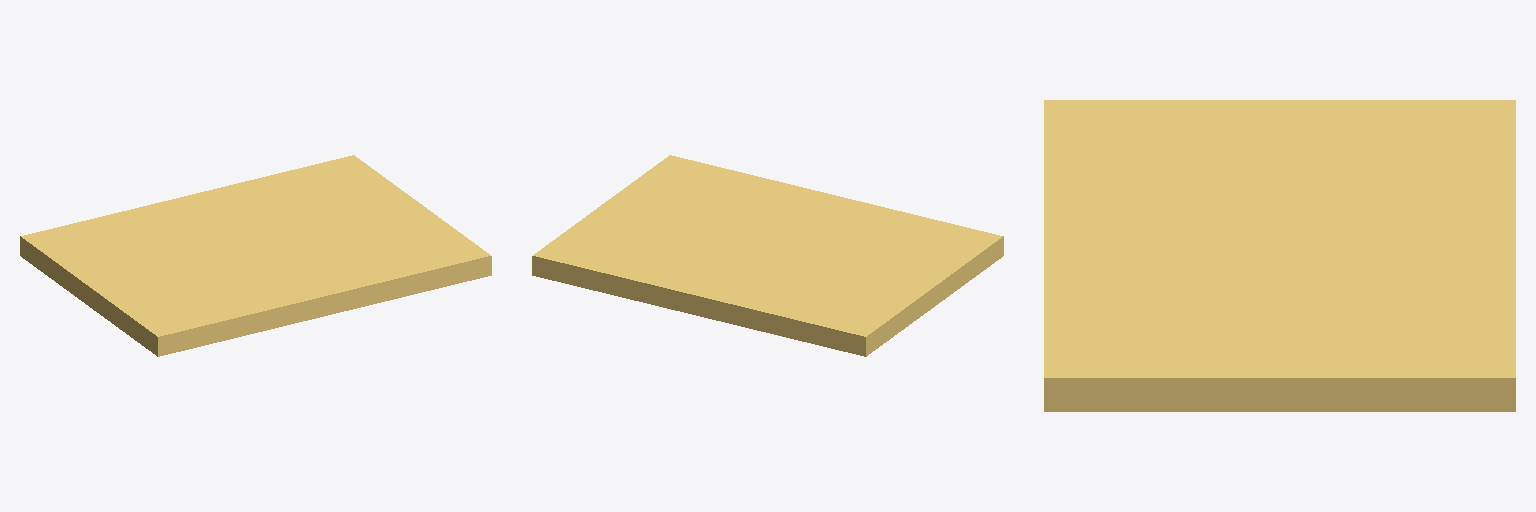
robot.urdf — table:
<?xml version="1.0" ?>
<!-- =================================================================================== -->
<!-- |    This document was autogenerated by xacro from cube.xacro                     | -->
<!-- |    EDITING THIS FILE BY HAND IS NOT RECOMMENDED                                 | -->
<!-- =================================================================================== -->
<robot name="table" xmlns:xacro="http://www.ros.org/wiki/xacro">
  <!-- Import Rviz colors -->
  <material name="red">
    <color rgba="0.8 0.0 0.0 1.0"/>
  </material>
  <material name="Grey">
    <color rgba="0.6 0.6 0.6 1.0"/>
  </material>
  <material name="Black">
    <color rgba="0.0 0.0 0.0 1"/>
  </material>
  <material name="Blue">
    <color rgba="0.0 0.0 1.0 1"/>
  </material>
  <material name="Wood">
    <color rgba="1 0.88 0.56 1"/>
  </material>
  <link name="cube_link">
    <visual>
      <origin rpy="0 0 0" xyz="0 0 0"/>
      <geometry>
        <box size="0.7 0.5 0.04"/>
      </geometry>
      <material name="Wood">
        <color rgba="1 0.88 0.56 1"/>
      </material>
    </visual>
    <inertial>
      <origin rpy="0 0 0" xyz="0 0 0"/>
      <mass value="1"/>
      <inertia ixx="0.0616666666667" ixy="0.0" ixz="0.0" iyy="0.0209666666667" iyz="0.0" izz="0.0409666666667"/>
    </inertial>
    <collision>
      <origin rpy="0 0 0" xyz="0 0 0"/>
      <geometry>
        <box size="0.7 0.5 0.04"/>
      </geometry>
    </collision>
  </link>
</robot>

--- Facts derived from the render (not from the file) ---
3 views of the same robot in one strip: view 1: azimuth 30°, elevation 25°; view 2: azimuth 150°, elevation 25°; view 3: azimuth 270°, elevation 25° (orthographic).
Robot: table — 1 links, 0 joints (none); root link cube_link; default pose: all joints at 0.
Links seen in each view (by area): view 1: cube_link; view 2: cube_link; view 3: cube_link.
Boxes of the visible links, bbox=[...] form: cube_link: bbox=[20, 155, 491, 356]; cube_link: bbox=[532, 155, 1003, 356]; cube_link: bbox=[1044, 100, 1515, 411].
Size in the robot's own frame: 0.7 by 0.5 by 0.04 metres.
Geometry: primitives only (box / cylinder / sphere), no mesh files.